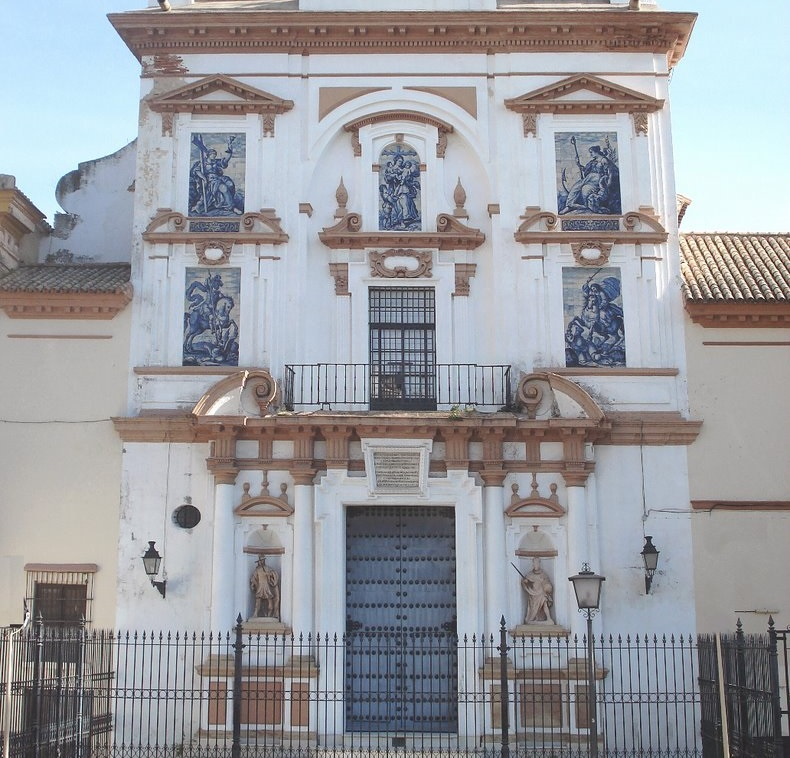fronton: (503, 71, 664, 119), (143, 71, 299, 120)
fronton-curvo: (501, 496, 569, 522), (230, 495, 297, 521)
fronton-partido: (187, 363, 618, 441), (509, 203, 671, 253), (313, 208, 492, 253), (137, 205, 296, 248)
vano-adintelado: (310, 472, 488, 739), (347, 259, 457, 416)
